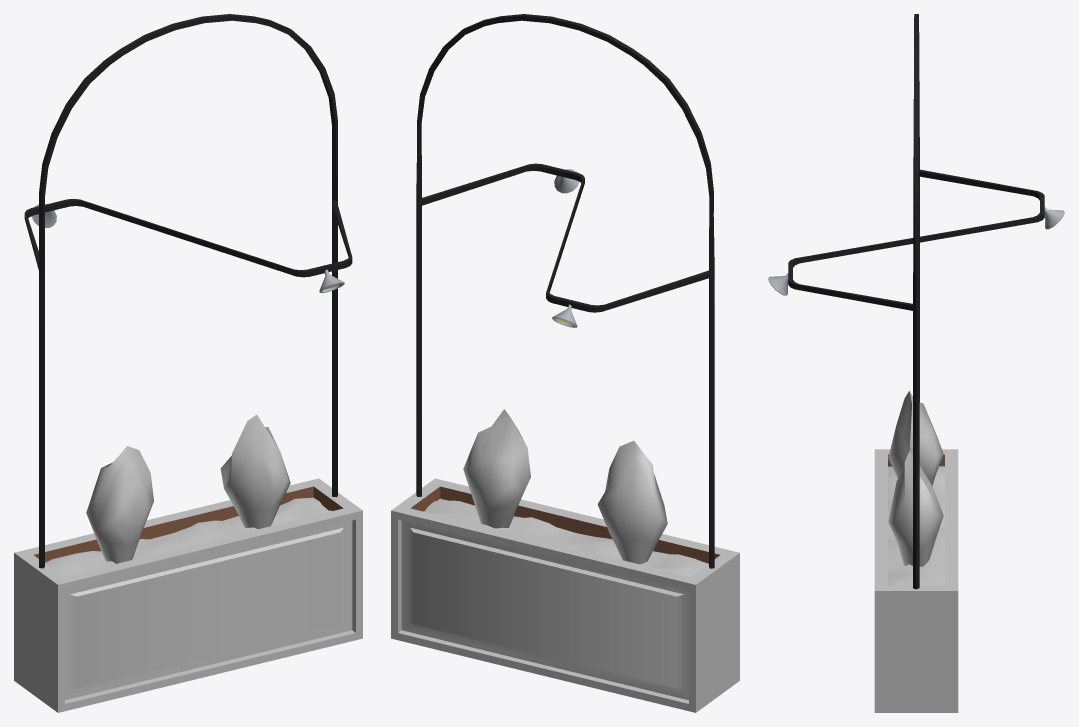
Rendered from Big-Fence.fbx.
3 views of the same model, side by side, from view 1: azimuth 30°, elevation 25°; view 2: azimuth 150°, elevation 25°; view 3: azimuth 270°, elevation 25° (orthographic). The views are drawn at different scales.
Parts seen in each view (by area): view 1: Big-Fence; view 2: Big-Fence; view 3: Big-Fence.
Boxes of the visible parts, left/top/right/bottom form: Big-Fence: left=14, top=14, right=362, bottom=712; Big-Fence: left=391, top=14, right=739, bottom=712; Big-Fence: left=768, top=14, right=1064, bottom=712.
Bounding box in the file's own units: 2 × 4 × 1.77.
